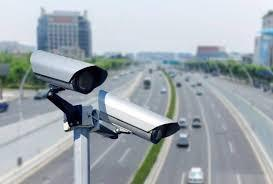tutu: (96, 88, 183, 148), (21, 44, 111, 95)
